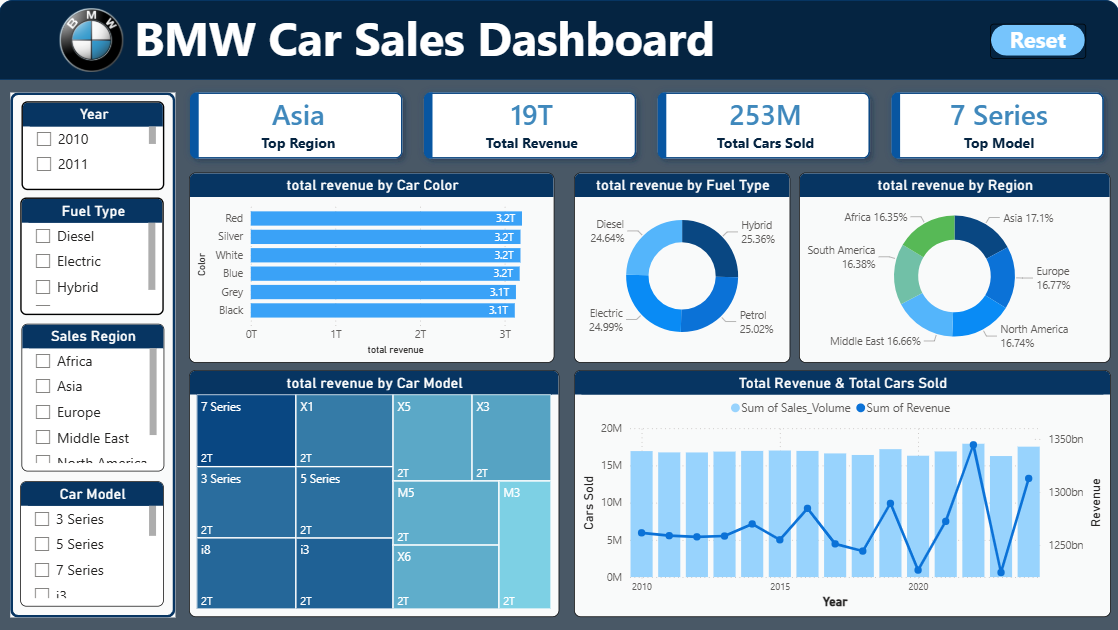

The page's visual inventory and layout, read from the dashboard file:
{"tool":"powerbi","page":{"name":"Page 1","canvas":[1280,720],"ordinal":0},"visuals":[{"type":"cardVisual","fields":{"Data":["bmw_car_sales.Top Region + Revenue","bmw_car_sales bmw_car_sales.total revenue","bmw_car_sales bmw_car_sales.total sales volume","bmw_car_sales.Top Model"]},"box":[202,88.2,1078,110.9],"z":1000},{"type":"lineStackedColumnComboChart","title":"Total Revenue & Total Cars Sold","fields":{"Category":["bmw_car_sales bmw_car_sales.sales_year"],"Y":["Sum(bmw_car_sales bmw_car_sales.Sales_Volume)"],"Y2":["Sum(bmw_car_sales bmw_car_sales.Revenue)"]},"box":[656.8,422.9,613.3,282.4],"z":2000},{"type":"shape","box":[0,0,1280,91.4],"z":3000},{"type":"barChart","title":"total revenue by Car Color","fields":{"Category":["bmw_car_sales bmw_car_sales.Color"],"Y":["bmw_car_sales.total revenue"]},"box":[216.4,196.5,418,217.7],"z":4000},{"type":"treemap","title":"total revenue by Car Model","fields":{"Group":["bmw_car_sales bmw_car_sales.Model"],"Values":["bmw_car_sales bmw_car_sales.total revenue"]},"box":[216.4,422.9,422.9,282.4],"z":5000},{"type":"shape","box":[12.9,105.7,188.6,600],"z":6000},{"type":"slicer","title":"Fuel Type","fields":{"Values":["bmw_car_sales bmw_car_sales.Fuel_Type"]},"box":[24.3,225.7,164.3,134.3],"z":7000},{"type":"slicer","title":"Sales Region","fields":{"Values":["bmw_car_sales bmw_car_sales.Region"]},"box":[25.7,370,162.9,168.6],"z":8000},{"type":"slicer","title":"Car Model","fields":{"Values":["bmw_car_sales bmw_car_sales.Model"]},"box":[24.3,550,164.3,142.9],"z":9000},{"type":"slicer","title":"Year","fields":{"Values":["bmw_car_sales bmw_car_sales.sales_year"]},"box":[25.7,115.7,162.9,101.4],"z":10000},{"type":"textbox","box":[124.4,1.2,724,90.8],"z":11000},{"type":"donutChart","title":"total revenue by Region","fields":{"Y":["bmw_car_sales.total revenue"],"Category":["bmw_car_sales.Region"]},"box":[914.3,196.5,355.8,217.7],"z":12000},{"type":"donutChart","title":"total revenue by Fuel Type","fields":{"Y":["bmw_car_sales.total revenue"],"Category":["bmw_car_sales.Fuel_Type"]},"box":[656.8,197.8,247.5,217.7],"z":13000},{"type":"image","box":[56,1.2,100.8,90.8],"z":14000},{"type":"actionButton","box":[1133.2,27.4,109.5,39.8],"z":15000}]}

Visuals, with their boxes in screenshot pixels (x1, y1, x2, y2), scaled from the page's 1280x720 canvas onto the 1118x630 screenshot:
cardVisual - bmw_car_sales.Top Region + Revenue x bmw_car_sales bmw_car_sales.total revenue: locate(176, 77, 1117, 174)
"Total Revenue & Total Cars Sold" lineStackedColumnComboChart: locate(574, 370, 1109, 617)
shape: locate(0, 0, 1117, 80)
"total revenue by Car Color" barChart: locate(189, 172, 554, 362)
"total revenue by Car Model" treemap: locate(189, 370, 558, 617)
shape: locate(11, 92, 176, 617)
"Fuel Type" slicer: locate(21, 197, 165, 315)
"Sales Region" slicer: locate(22, 324, 165, 471)
"Car Model" slicer: locate(21, 481, 165, 606)
"Year" slicer: locate(22, 101, 165, 190)
textbox: locate(109, 1, 741, 80)
"total revenue by Region" donutChart: locate(799, 172, 1109, 362)
"total revenue by Fuel Type" donutChart: locate(574, 173, 790, 364)
image: locate(49, 1, 137, 80)
actionButton: locate(990, 24, 1085, 59)
